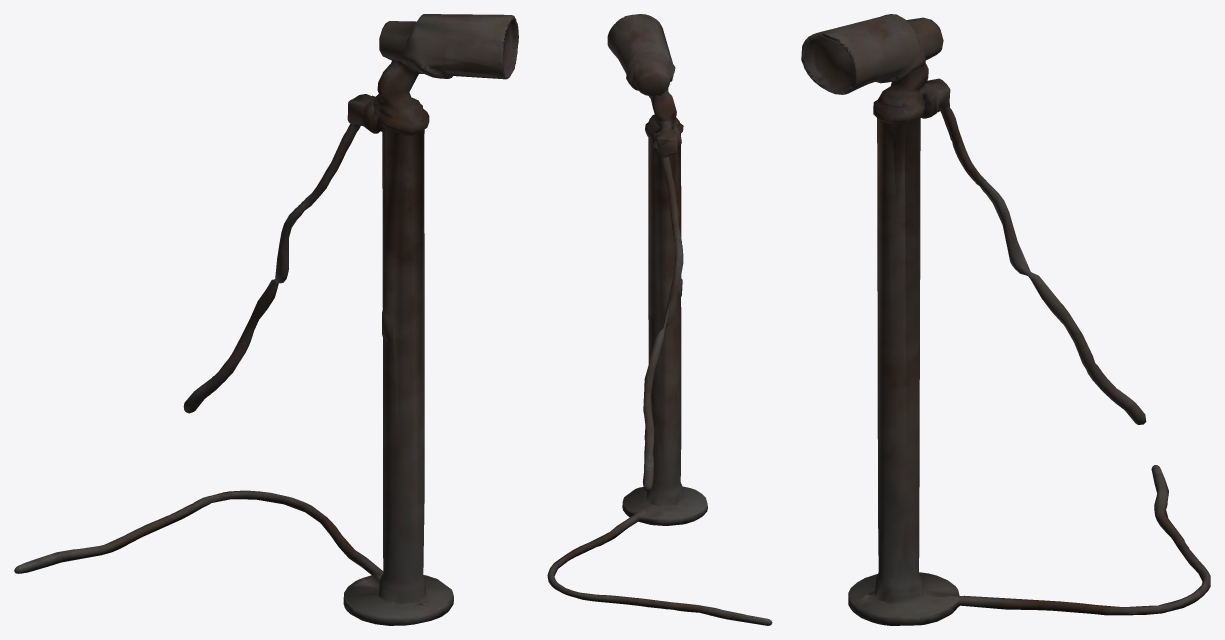
File: sturdy-iron-wall-torch-v001.glb
3 renders of one model, left to right at view 1: azimuth 30°, elevation 25°; view 2: azimuth 150°, elevation 25°; view 3: azimuth 270°, elevation 25°, orthographic. The views are drawn at different scales.
Parts seen in each view (by area): view 1: sturdy-iron-wall-torch; view 2: sturdy-iron-wall-torch; view 3: sturdy-iron-wall-torch.
Boxes of the visible parts, left/top/right/bottom form: sturdy-iron-wall-torch: left=14, top=14, right=518, bottom=625; sturdy-iron-wall-torch: left=547, top=14, right=772, bottom=625; sturdy-iron-wall-torch: left=801, top=14, right=1210, bottom=625.
Bounding box in the file's own units: 0.4545 × 0.7196 × 0.4395.
Materials: 1 (1 with a texture image).
